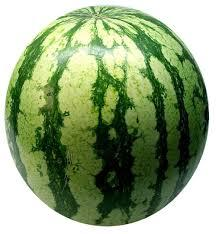non-mango: (3, 4, 209, 226)
